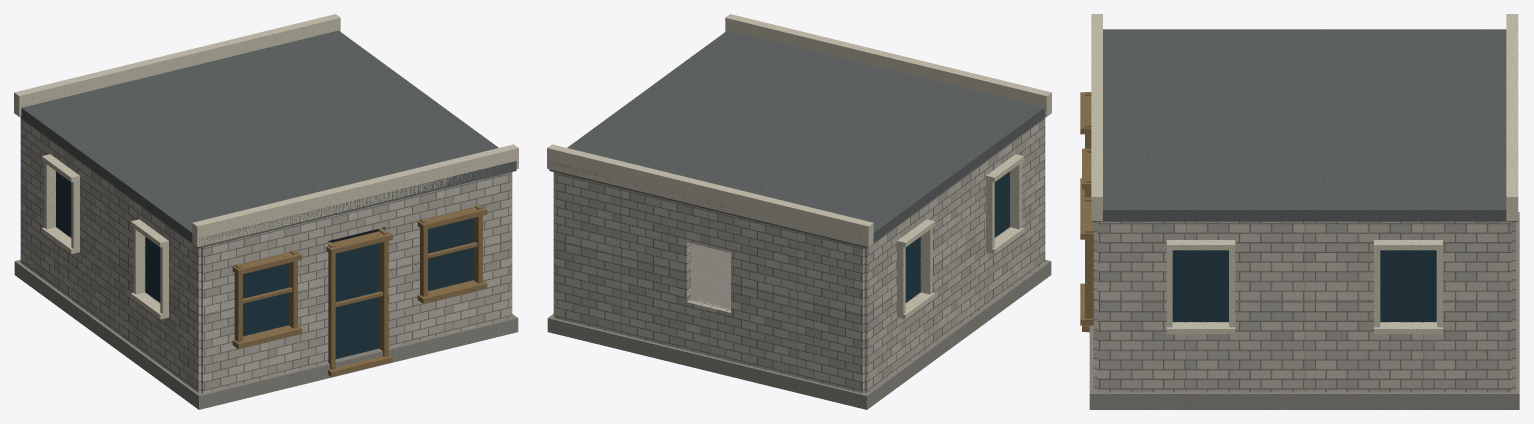
File: SHOPE2_lod2.glb
3 views of the same model, side by side, from view 1: azimuth 30°, elevation 25°; view 2: azimuth 150°, elevation 25°; view 3: azimuth 270°, elevation 25° (orthographic). The views are drawn at different scales.
Visible parts, largest first — view 1: SHOPE2_LOD2; view 2: SHOPE2_LOD2; view 3: SHOPE2_LOD2.
Part boxes in pixels (x1,y1,x2,y2): SHOPE2_LOD2: (14,14,518,409); SHOPE2_LOD2: (547,14,1051,409); SHOPE2_LOD2: (1080,14,1519,409).
Size of the model in its own units: 7.51 by 3.97 by 7.41.
Materials: 7 (5 with a texture image).
